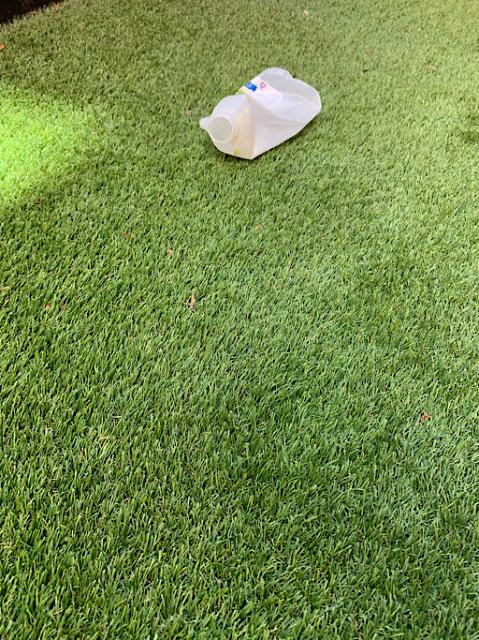plastic: (199, 67, 320, 157)
